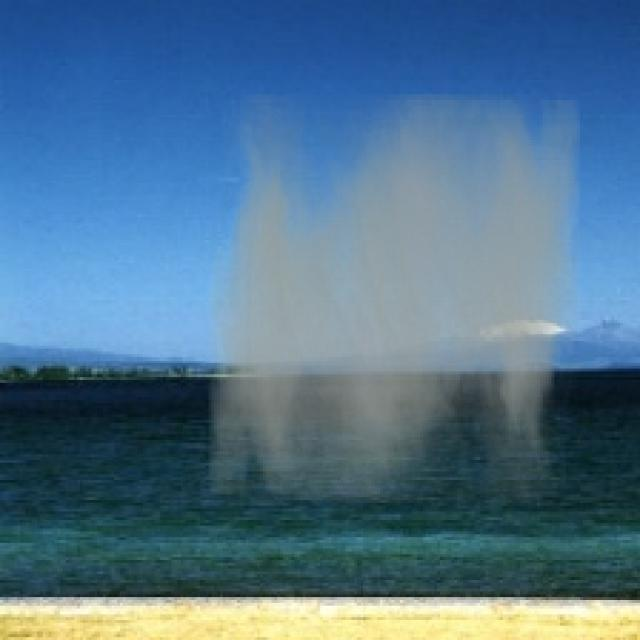Smoke: (208, 94, 580, 503)
